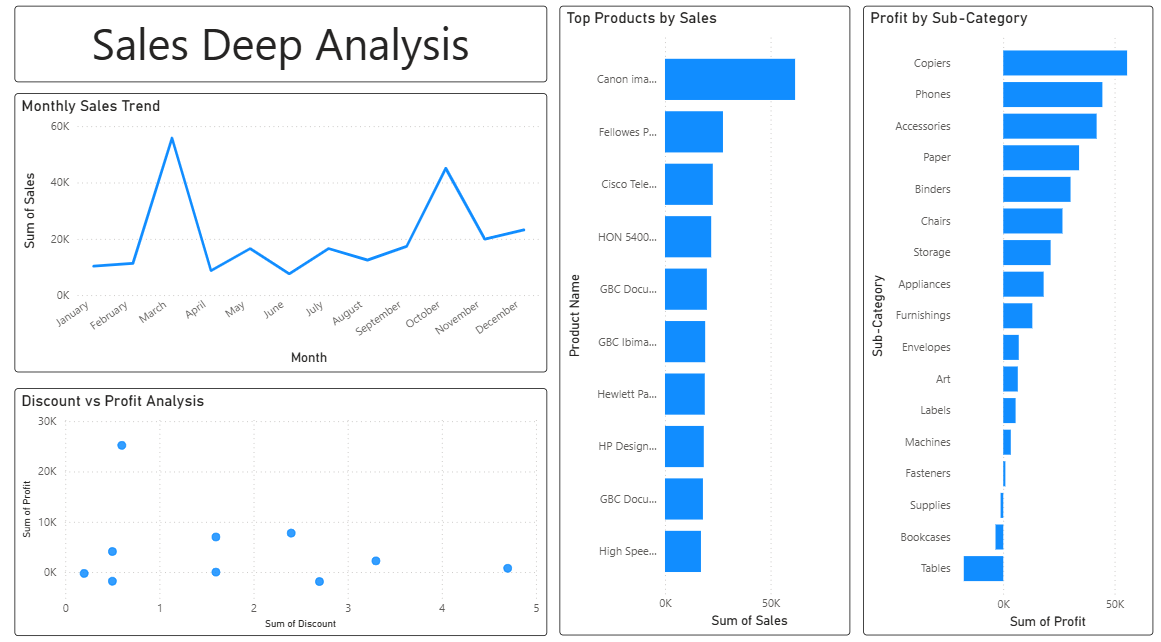

The dashboard page shown, as its layout file describes it:
{"tool":"powerbi","page":{"name":"Sales Deep Analysis","canvas":[1280,720],"ordinal":1},"visuals":[{"type":"barChart","title":"Profit by Sub-Category","fields":{"Category":["OrignalDataSet - Superstore.Sub-Category"],"Y":["Sum(OrignalDataSet - Superstore.Profit)"]},"box":[950.9,15.1,318.4,691.6],"z":0},{"type":"barChart","title":"Top Products by Sales","fields":{"Category":["OrignalDataSet - Superstore.Product Name"],"Y":["Sum(OrignalDataSet - Superstore.Sales)"]},"box":[617.2,15.7,319.3,691.3],"z":1000},{"type":"scatterChart","title":"Discount vs Profit Analysis","fields":{"X":["Sum(OrignalDataSet - Superstore.Discount)"],"Y":["Sum(OrignalDataSet - Superstore.Profit)"],"Category":["OrignalDataSet - Superstore.Product Name"]},"box":[18.5,434.7,584.4,272.2],"z":2000},{"type":"lineChart","title":"Monthly Sales Trend","fields":{"Category":["OrignalDataSet - Superstore.Order Date.Variation.Date Hierarchy.Month"],"Y":["Sum(OrignalDataSet - Superstore.Sales)"]},"box":[18.5,111.2,584.4,306.5],"z":3000},{"type":"textbox","box":[18.5,15.7,584.4,84.1],"z":4000}]}

Visuals, with their boxes in screenshot pixels (x1, y1, x2, y2), scaled from the page's 1280x720 canvas onto the 1161x642 screenshot:
"Profit by Sub-Category" barChart: detection(862, 13, 1151, 630)
"Top Products by Sales" barChart: detection(560, 14, 849, 630)
"Discount vs Profit Analysis" scatterChart: detection(17, 388, 547, 630)
"Monthly Sales Trend" lineChart: detection(17, 99, 547, 372)
textbox: detection(17, 14, 547, 89)
